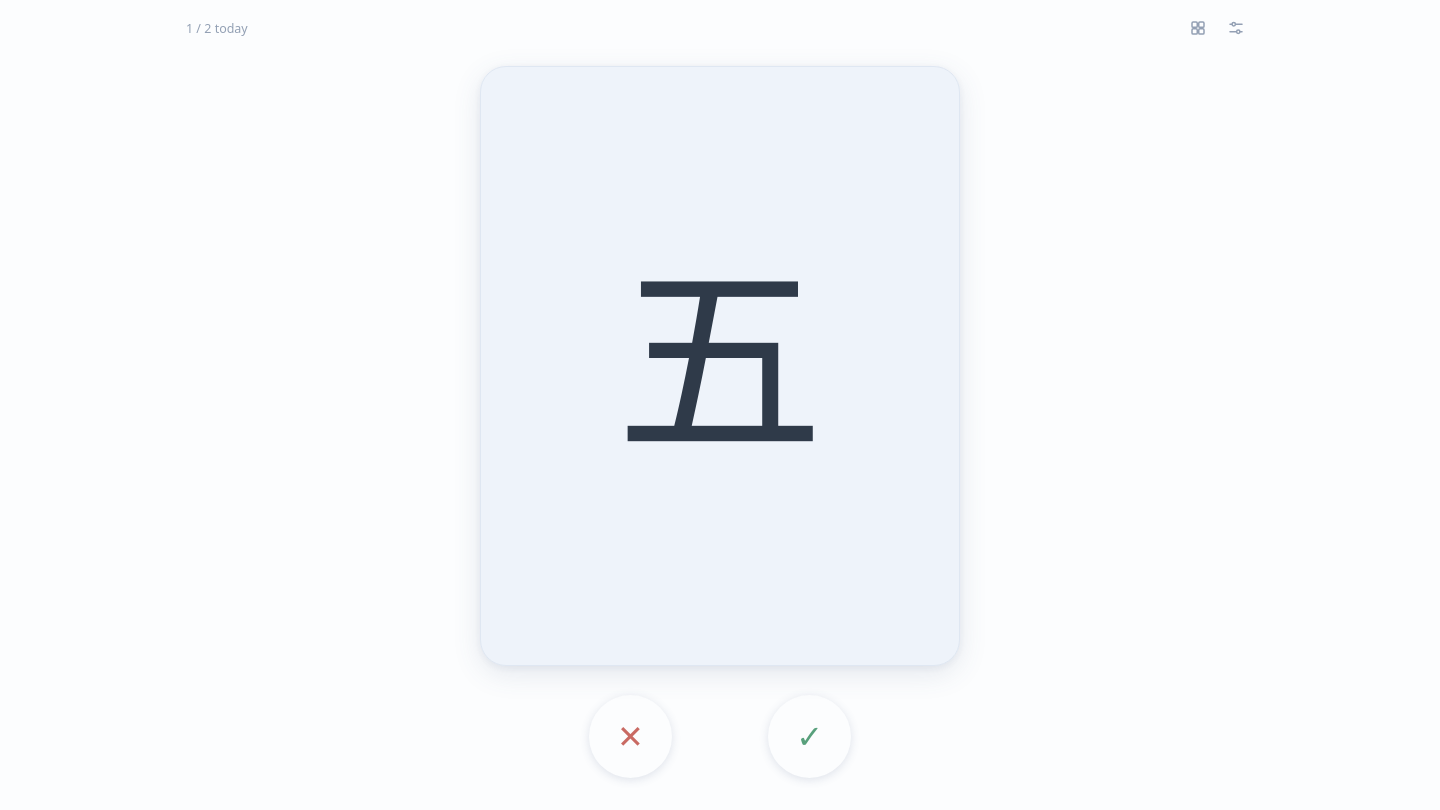
Test case: admin dashboard › tracks /admin in the URL and the home button returns to the lesson
Check: the button named "I know this" is shown, box [768,695,851,778]
Click the button named "Settings" at (1236, 28), box [1219,11,1254,46]
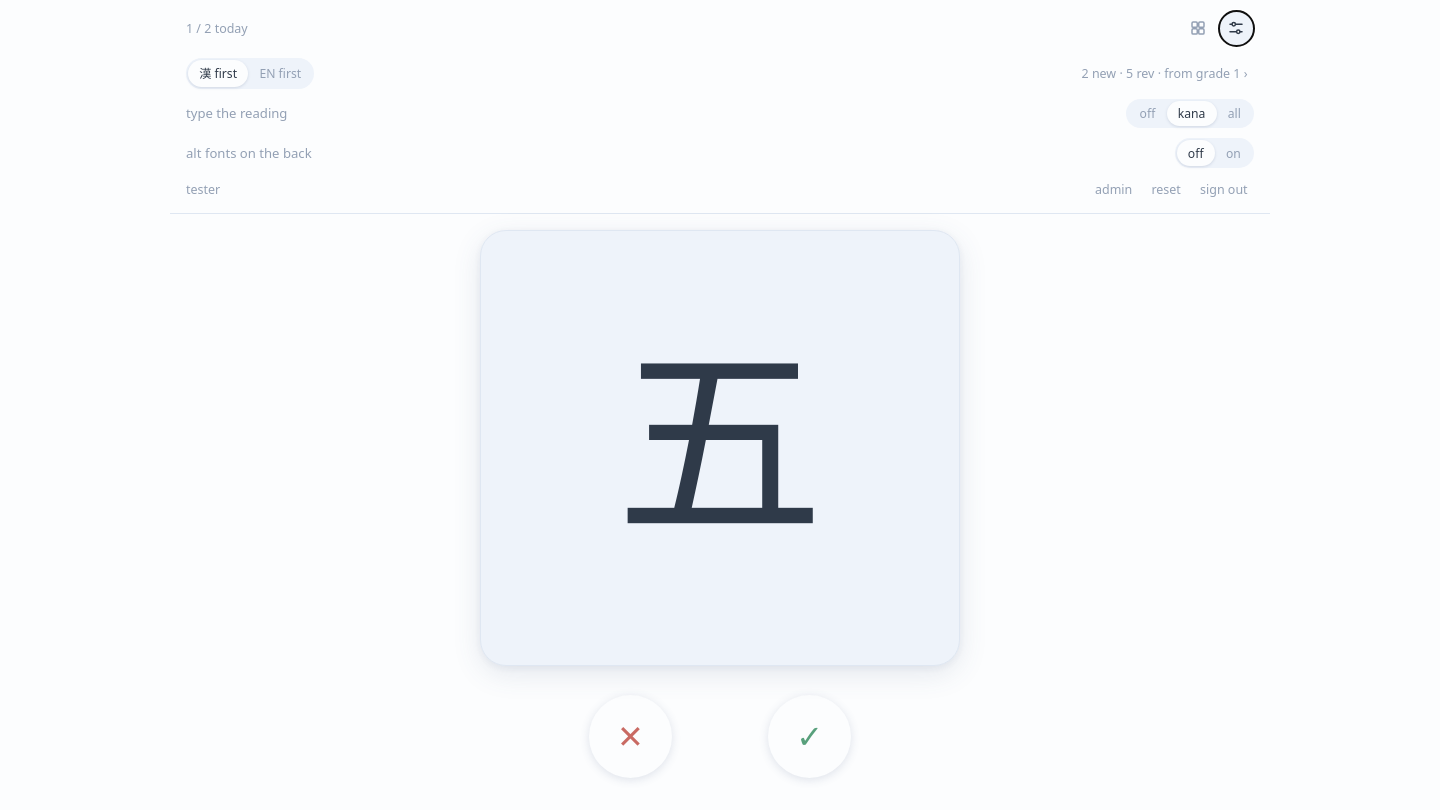
Click the button "admin" at (1114, 189), box [1089,178,1139,201]
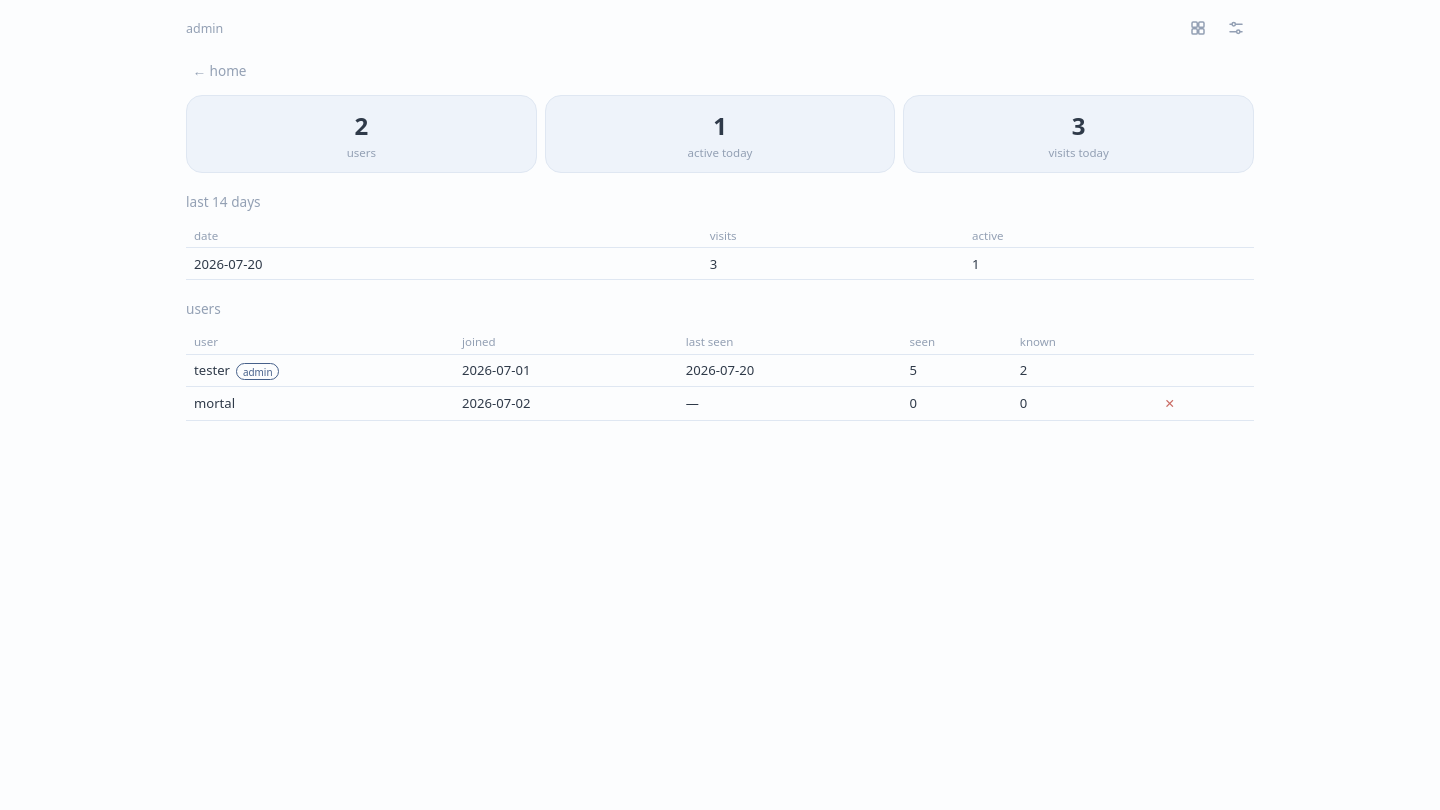
Check: the text "visits today" is shown, box [1048,144,1109,160]
Click the button labelled "← home" at (219, 71), box [186,58,253,83]
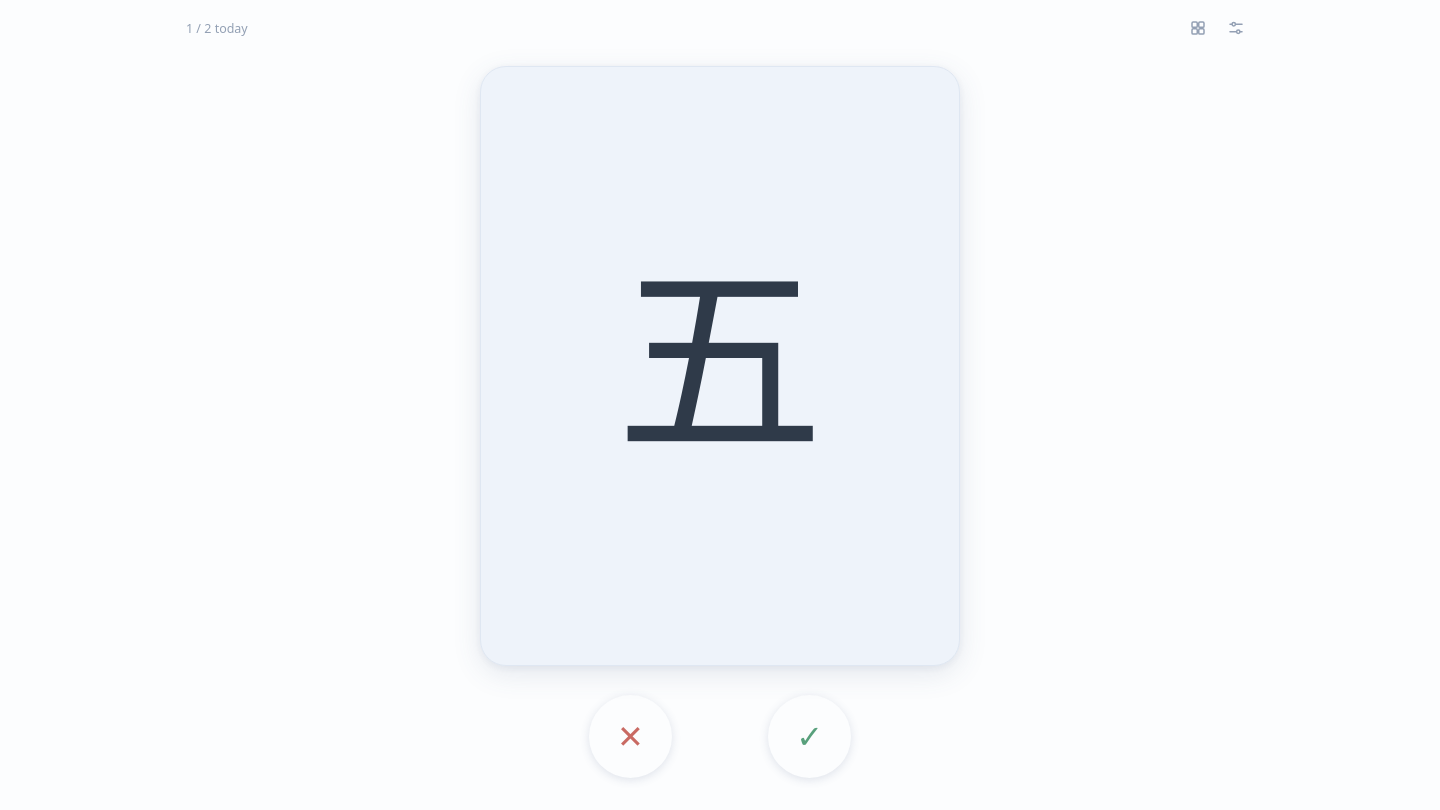
Check: the button named "I know this" is shown, box [768,695,851,778]
